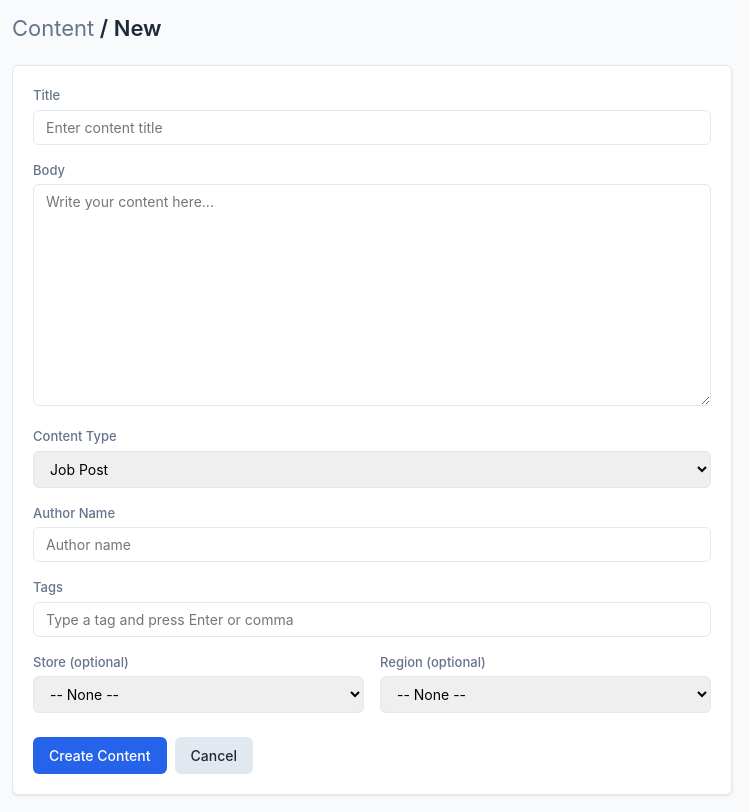
Test: ContentCreatePage — behavior tests › shows "Creating..." text and disables button while mutation is pending
In the field with placeholder "Enter content title": (372, 127) left=33, top=110, right=711, bottom=144, type "Test"
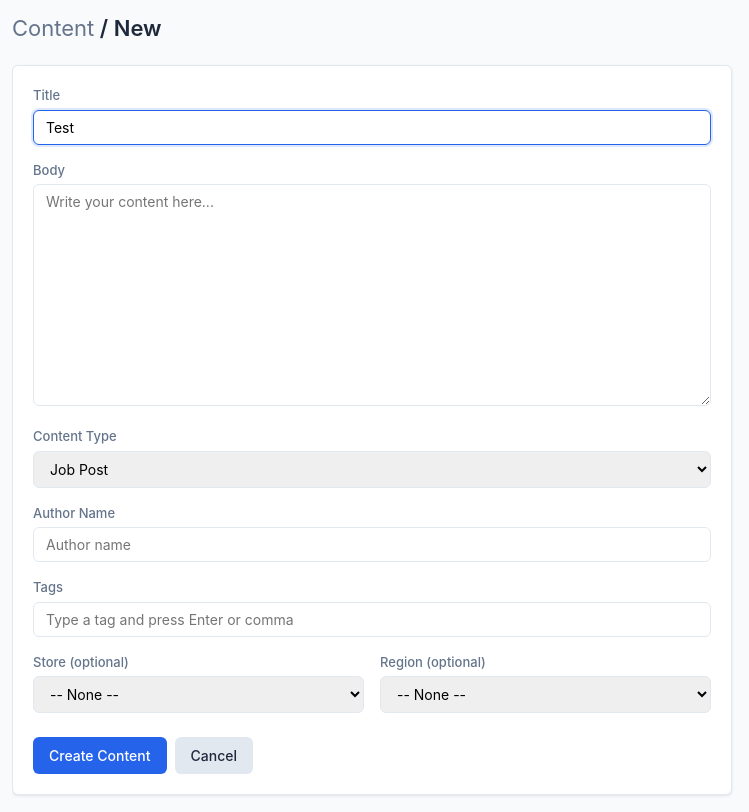
In the text box with placeholder "Write your content here...": (372, 295) left=33, top=184, right=711, bottom=406, type "Body"
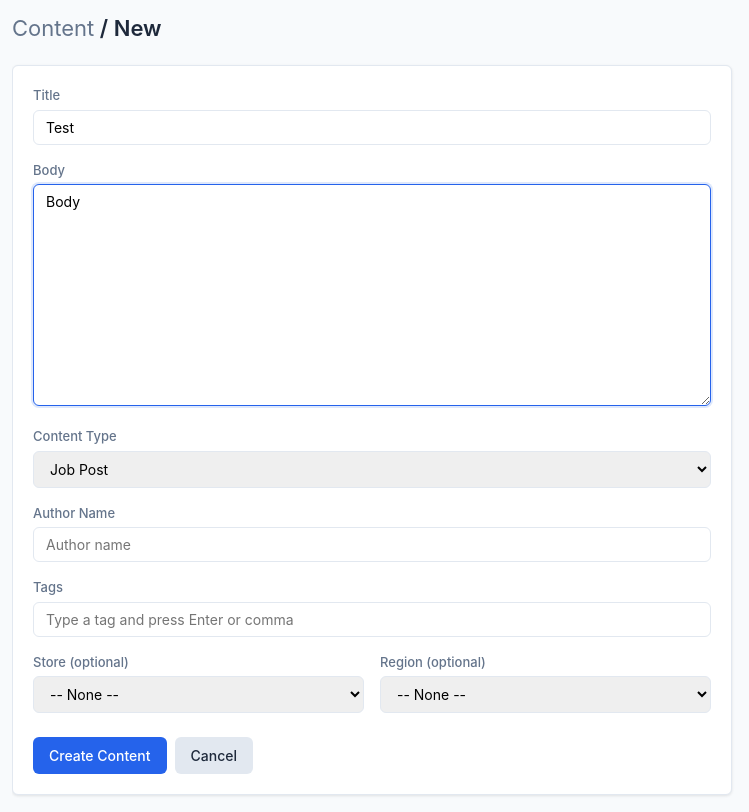
In the field with placeholder "Author name": (372, 544) left=33, top=527, right=711, bottom=562, type "Author"
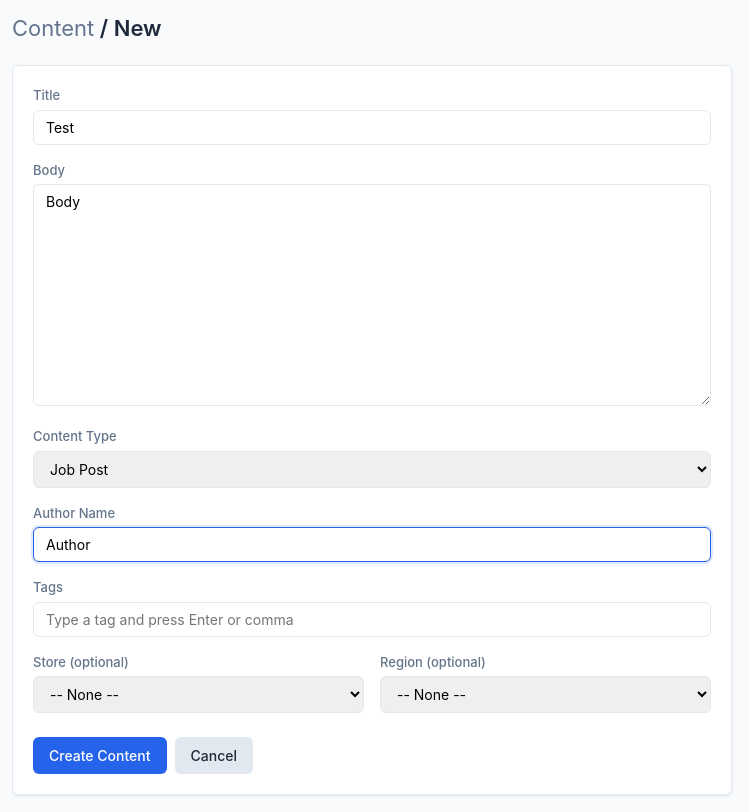
Click the button "Create Content": (100, 756) left=33, top=737, right=166, bottom=774
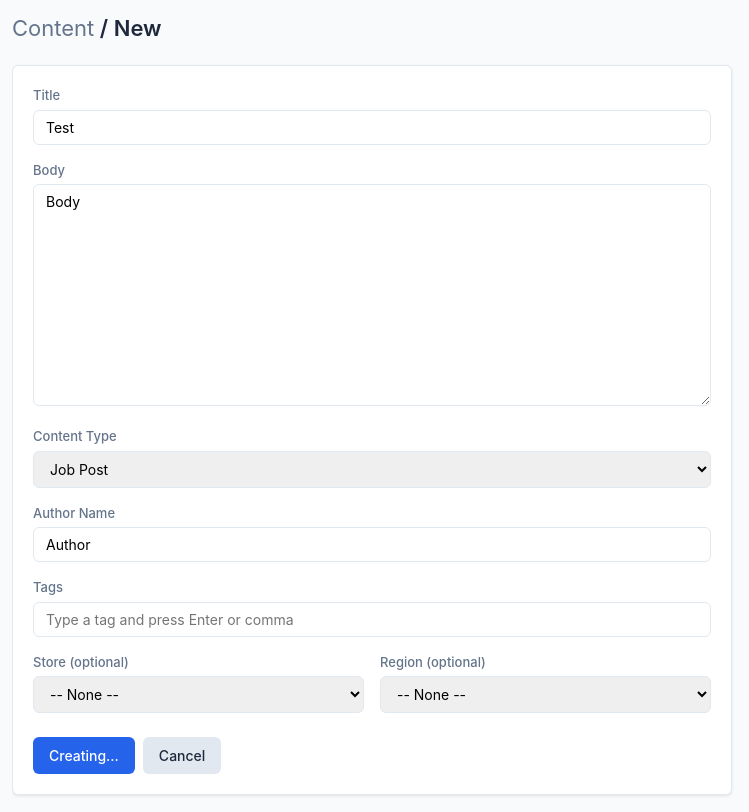
Now the button "Creating..." is disabled, box left=33, top=737, right=135, bottom=774
